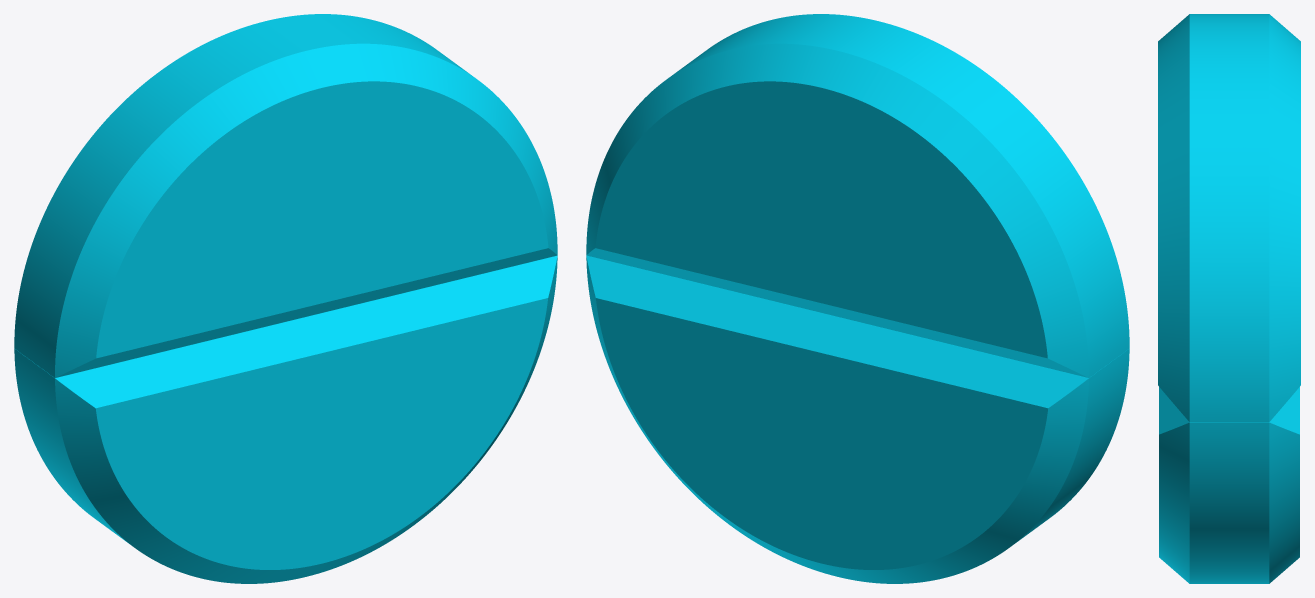
The model's file is blueRound.gltf.
The picture shows the model from 3 angles, left to right: view 1: azimuth 30°, elevation 25°; view 2: azimuth 150°, elevation 25°; view 3: azimuth 270°, elevation 25°; orthographic projection.
Size of the model in its own units: 0.3167 by 0.3167 by 0.0793.
